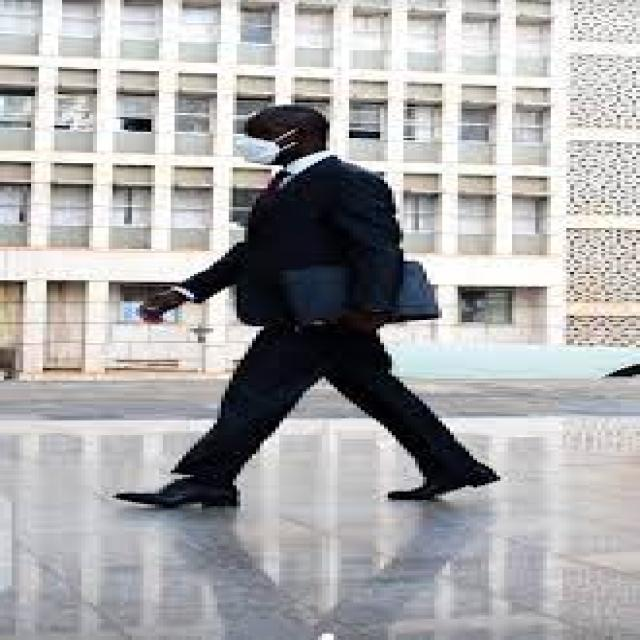Person: (113, 106, 501, 508)
